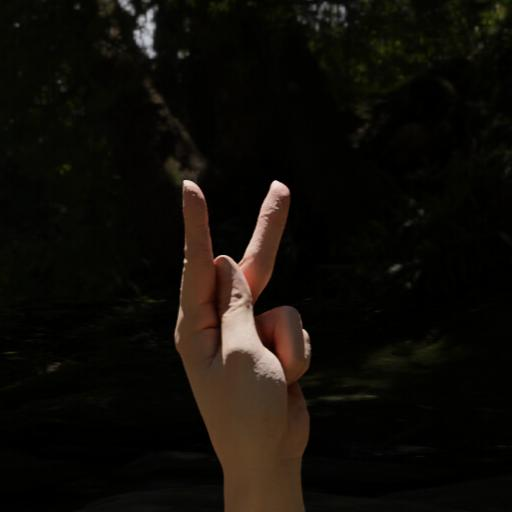K: (166, 171, 333, 511)
